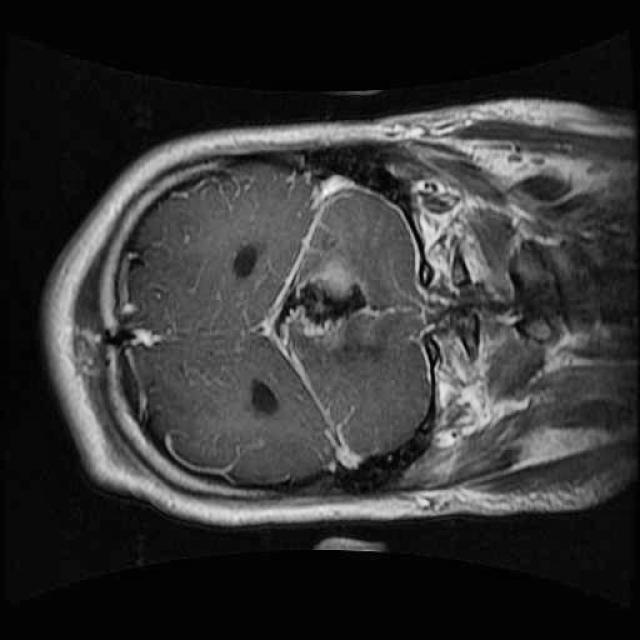Tumor: (252, 253, 408, 359)
